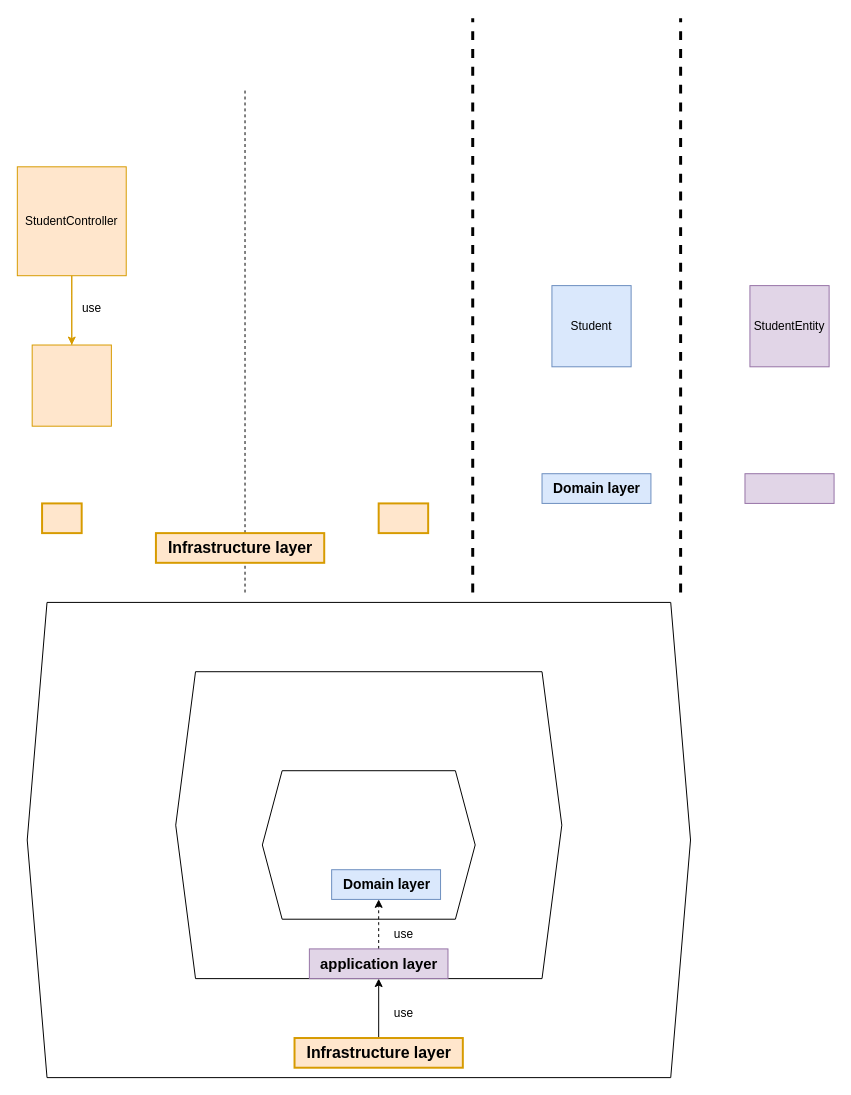
The diagram is 851 pixels wide and 1095 high, and some of its shapes have lost their labels. The shapes that lost their labels are listed below. From the top down, each one's centre as x and y in pixels, then its label:
point 71,385: StudentDTO
point 789,488: database
point 61,518: in
point 403,518: out
